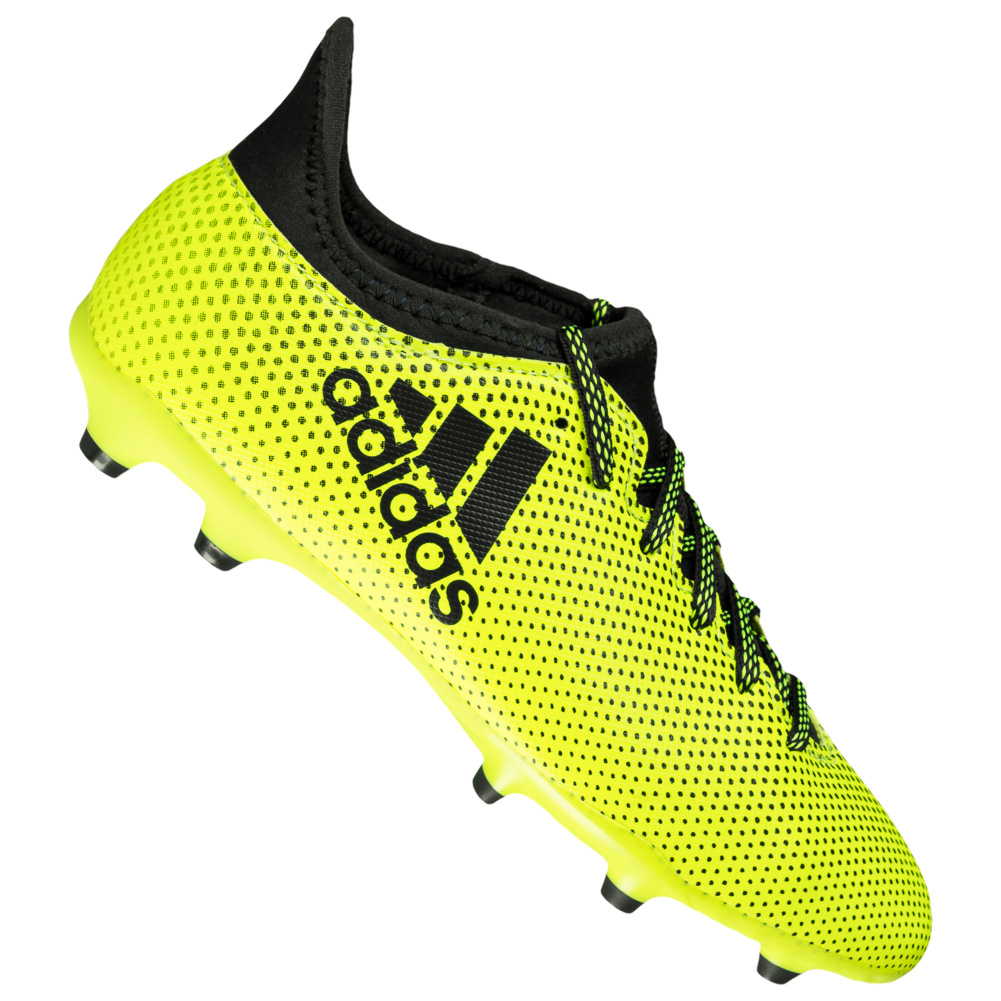football boots: (68, 17, 933, 989)
